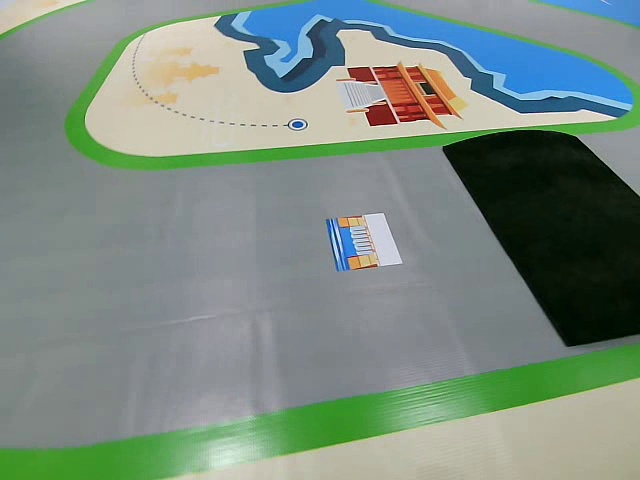tengJiaoQiFeng: (320, 202, 414, 289)
